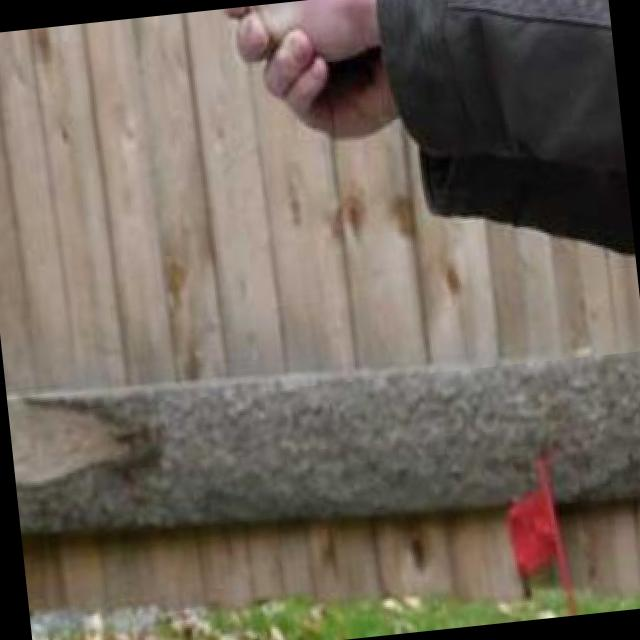Guns: (44, 0, 391, 39)
